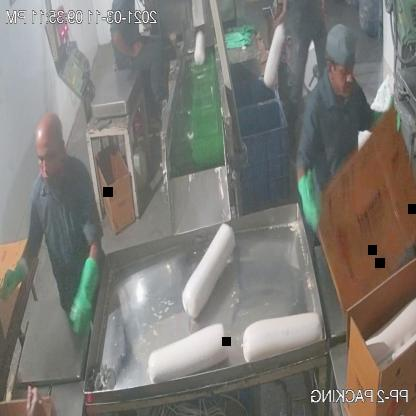glove: (68, 246, 107, 346), (0, 240, 34, 312), (294, 172, 326, 231)
no_glove: (110, 24, 152, 64)
